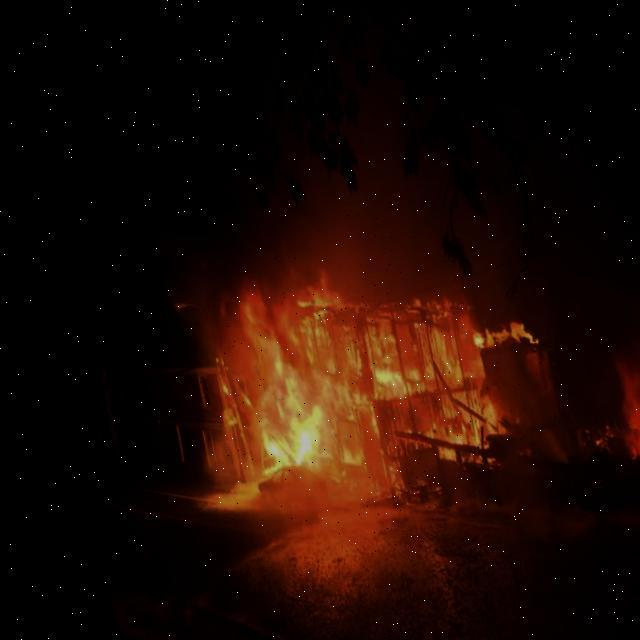Fire: (181, 278, 639, 523)
